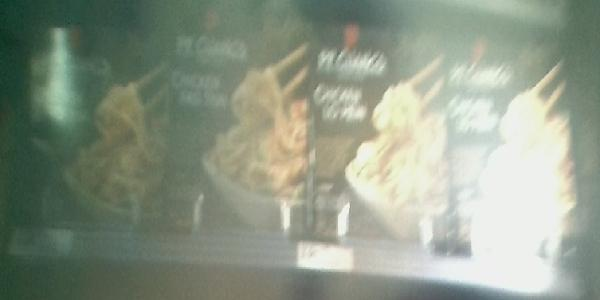pizza1: (5, 17, 161, 230), (310, 29, 453, 257), (165, 28, 311, 241), (450, 42, 587, 265)
